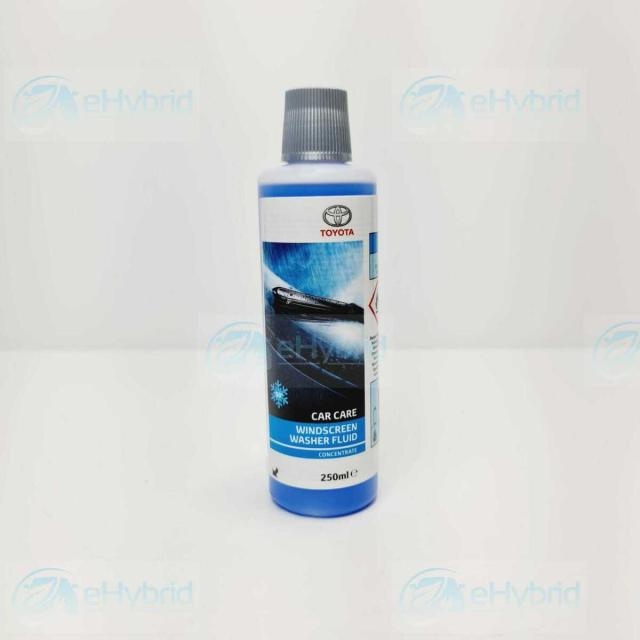winwinshield_washer: (255, 83, 385, 521)
